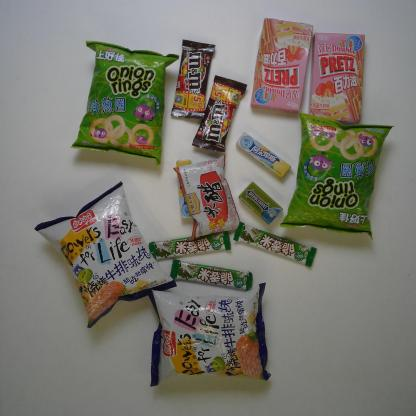Candy: (233, 130, 294, 180), (175, 158, 195, 222)
Chocolate: (190, 72, 250, 154), (231, 220, 319, 269), (169, 37, 217, 121), (168, 257, 255, 291), (148, 229, 233, 262)
Dessert: (247, 15, 316, 116), (306, 30, 370, 124)
Gum: (236, 178, 284, 228)
Puffed Food: (31, 179, 180, 332), (278, 110, 395, 242), (68, 38, 181, 167), (144, 279, 274, 389)
Seasoner: (171, 149, 242, 241)
